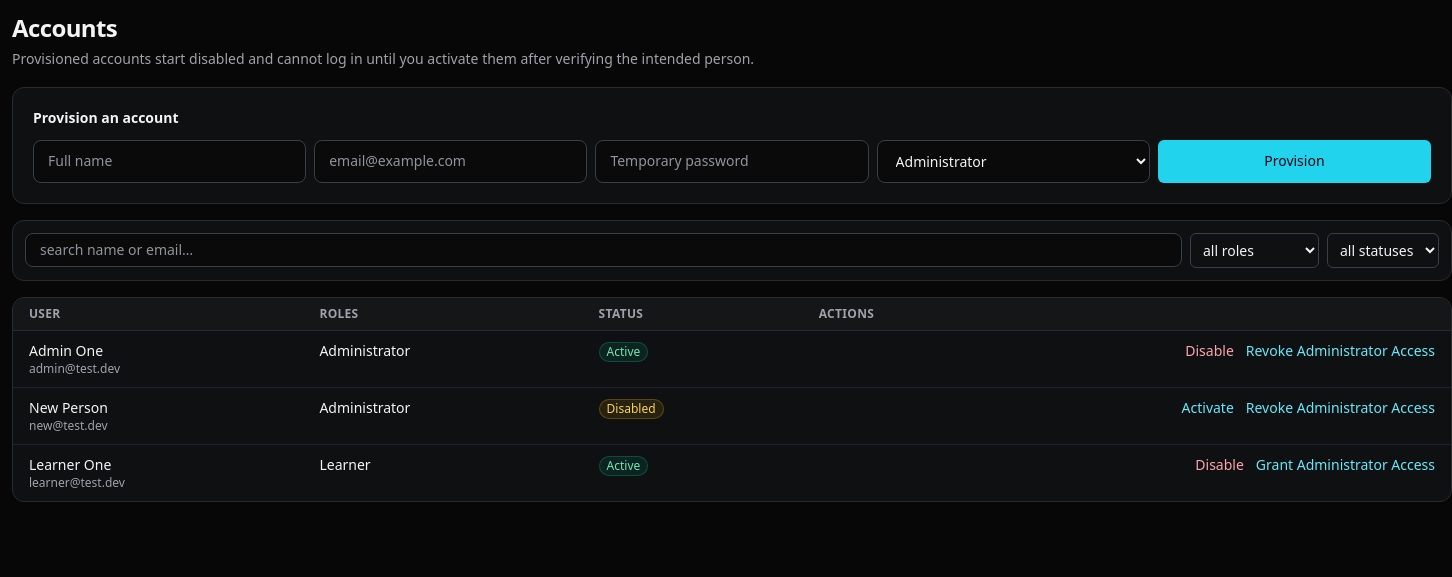
Test: AdminAccountsPage › provisions a new account through the admin endpoint
The width and height of the screenshot is (1452, 577).
Expected: the text "new@test.dev" is shown, 29,417 -> 108,434
Type "Second Admin" into the field with placeholder "Full name" at x=170, y=161, box 33,140 -> 306,183
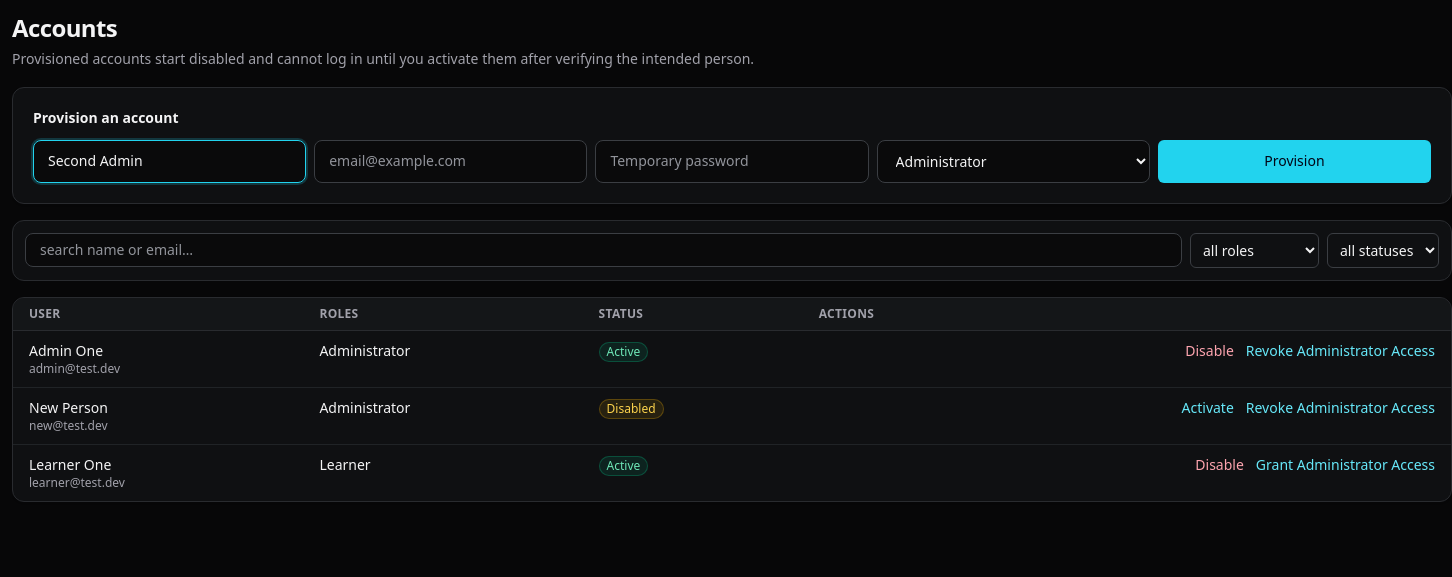
Type "two@test.dev" into the field with placeholder "email@example.com" at x=451, y=161, box 314,140 -> 587,183
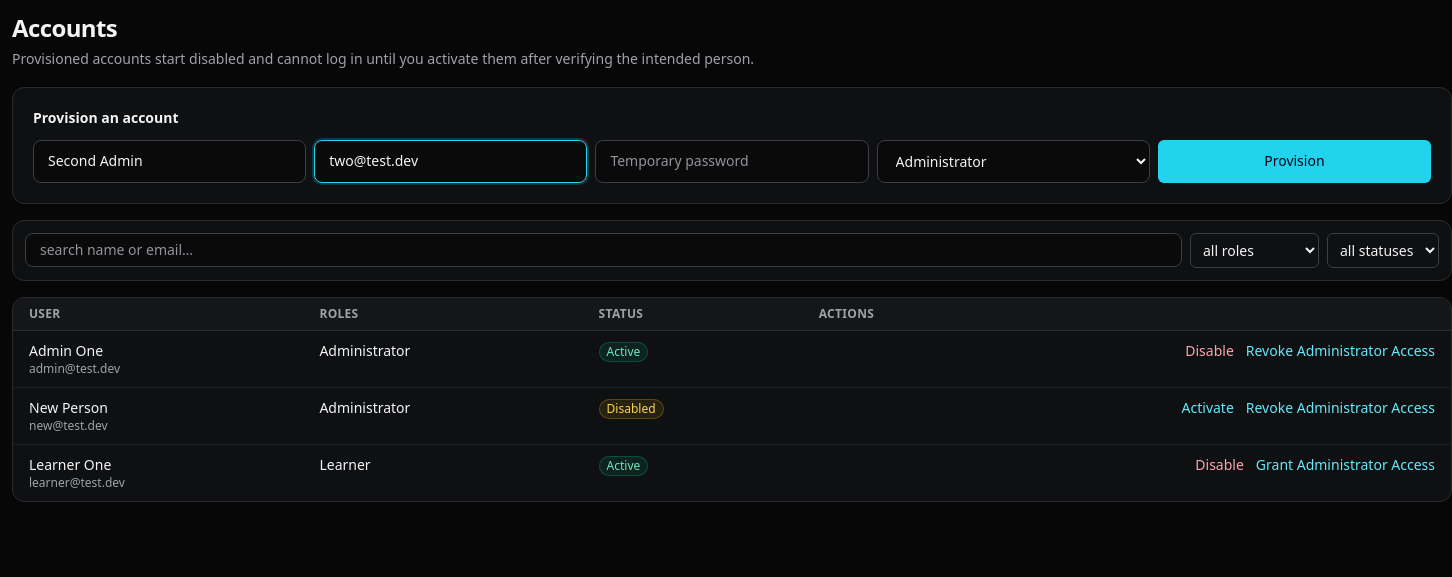
Type "pass-1234" into the password field with placeholder "Temporary password" at x=732, y=161, box 595,140 -> 869,183
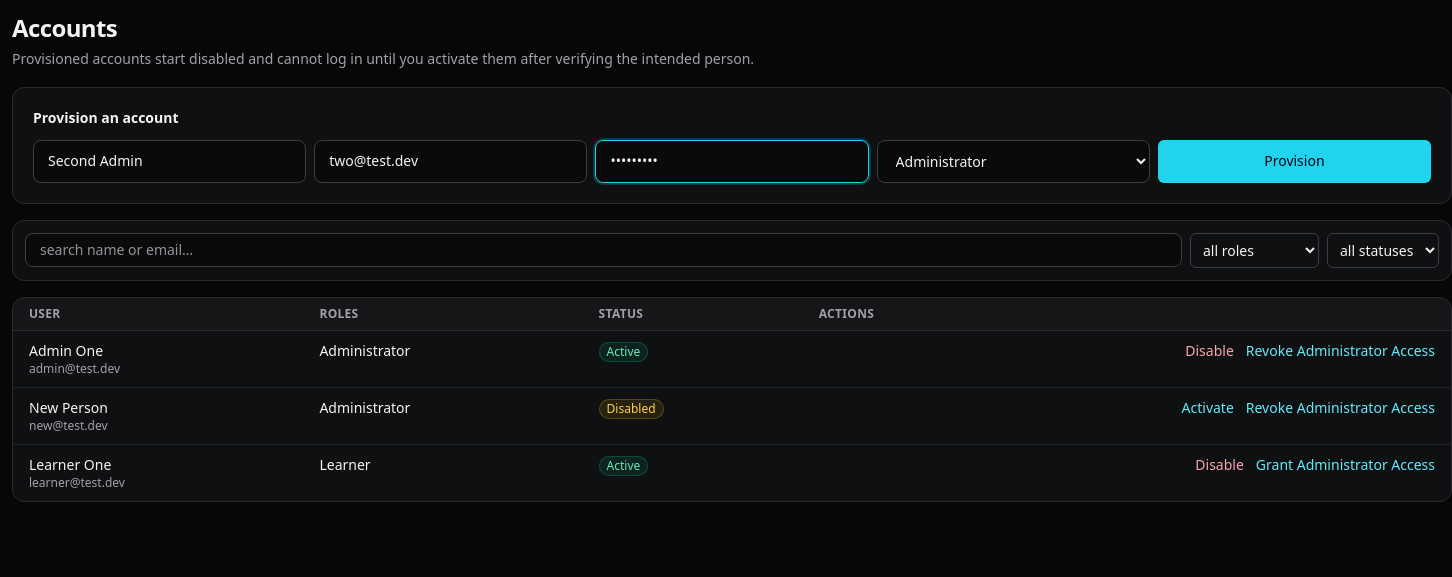
Click the button "Provision" at x=1294, y=161, box 1158,140 -> 1431,183
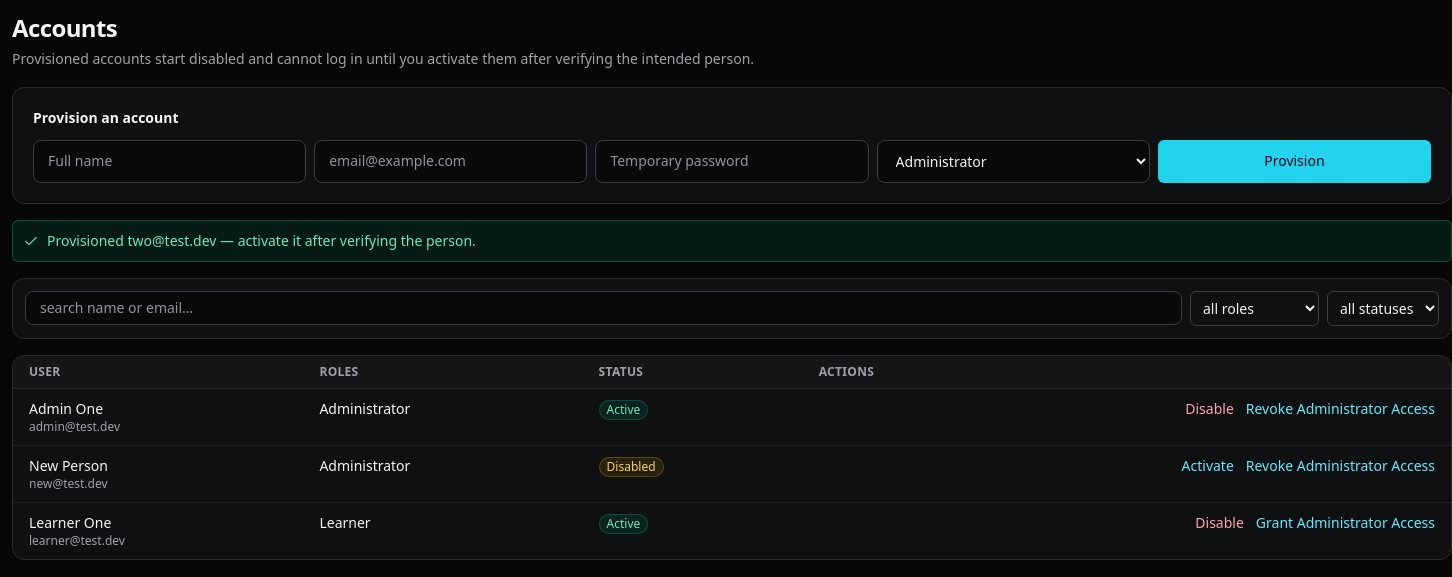
Expected: the message shows "Provisioned two@test.dev", 47,231 -> 476,250
